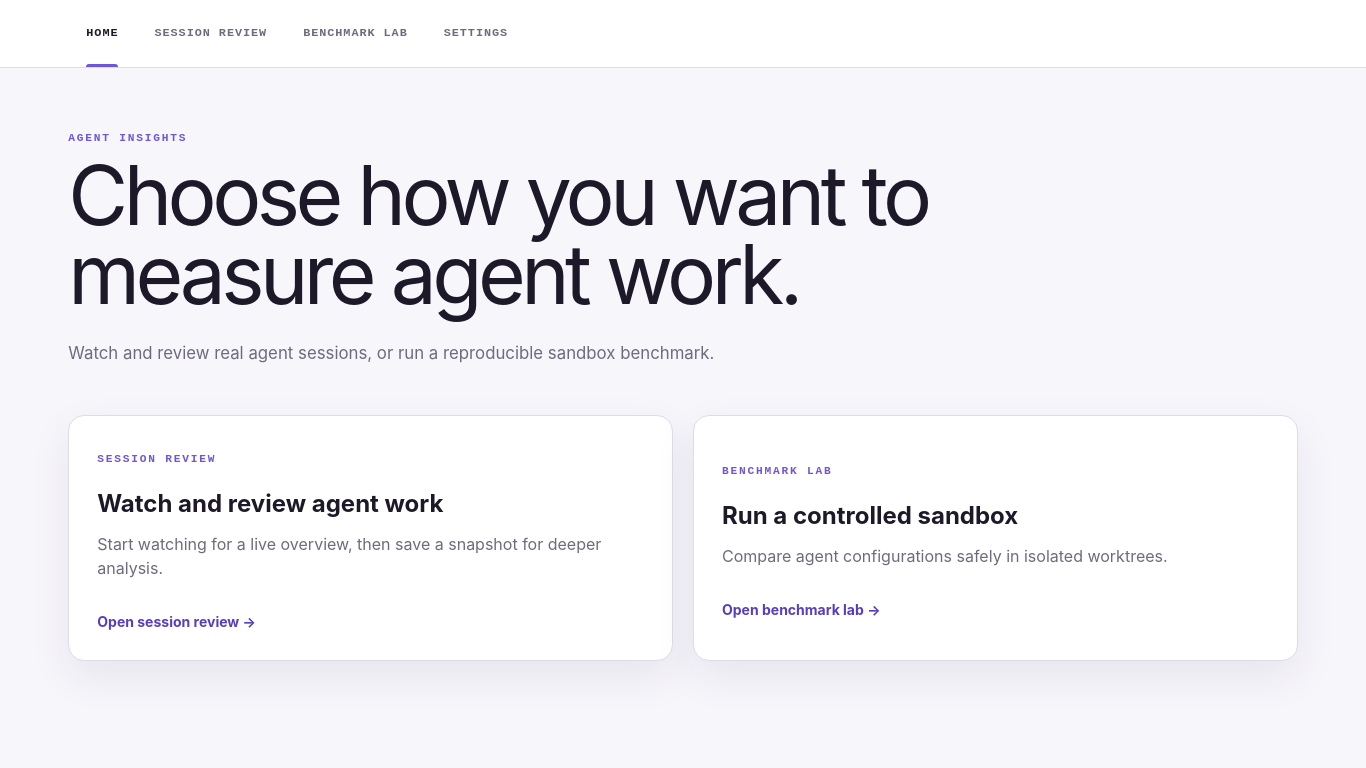
Test: retries an interrupted run with its recorded configuration
Click the button "Benchmark Lab": (355, 34) [285,0,426,67]
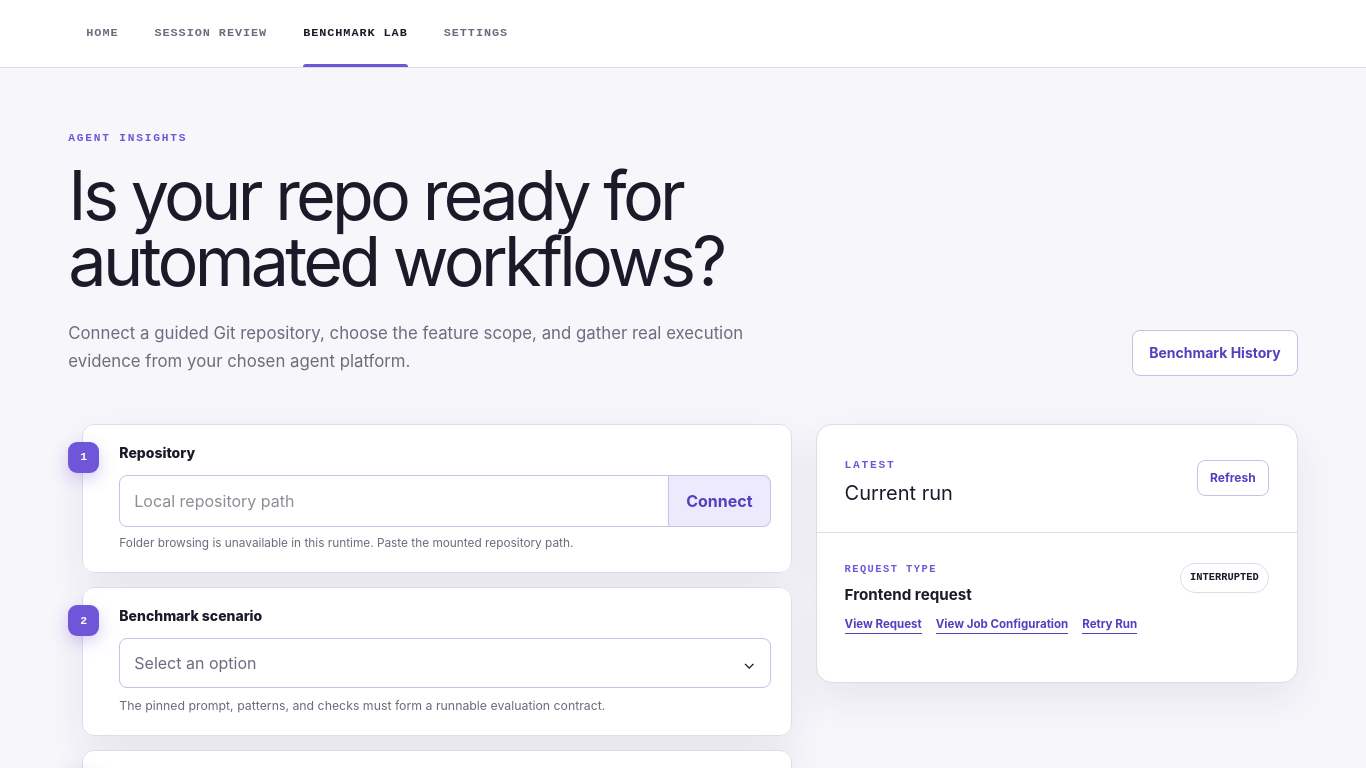
Click the button "Retry Run": (1110, 625) [1082,616,1137,634]
(page scrolled)
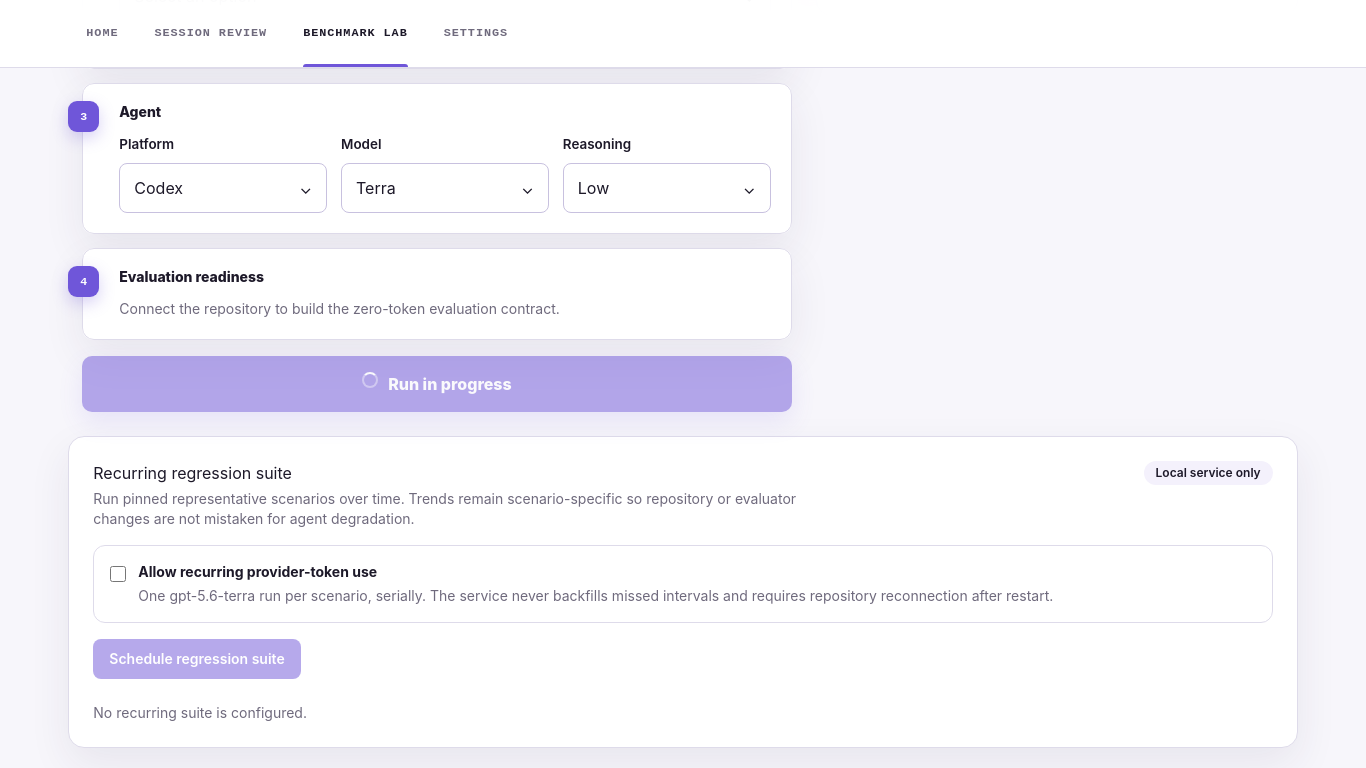
Result: the button "Run in progress" is shown at [82,356,792,412]
